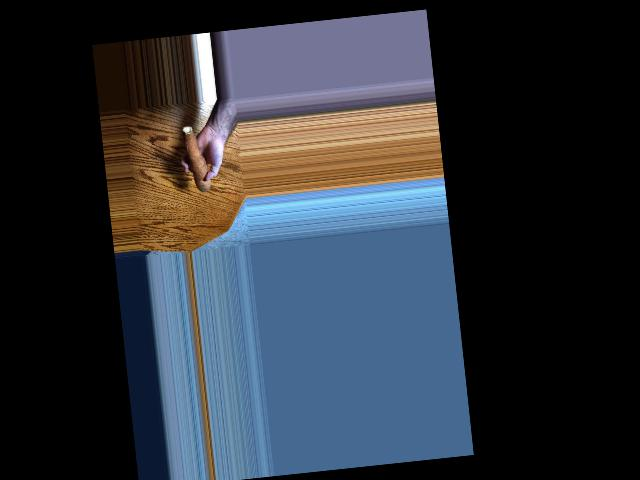sweet_potato: (180, 119, 208, 196)
